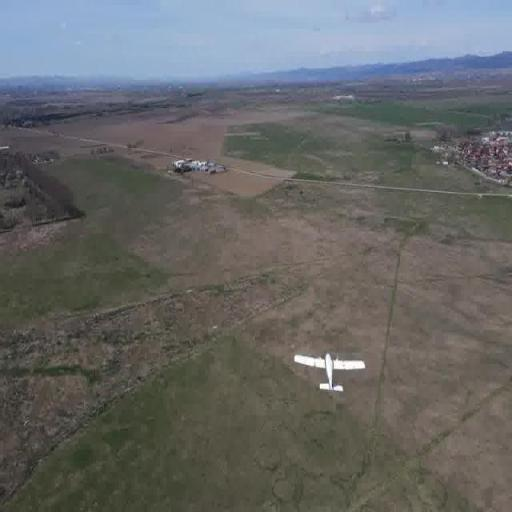uav: (292, 346, 369, 400)
